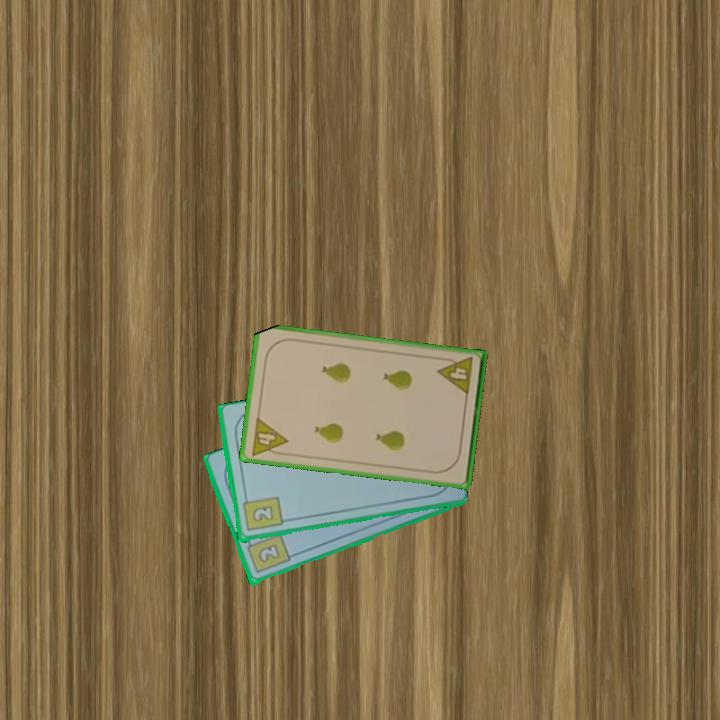2b: (243, 530, 293, 577), (239, 492, 285, 534)
4p: (247, 414, 290, 459), (435, 353, 476, 398)
